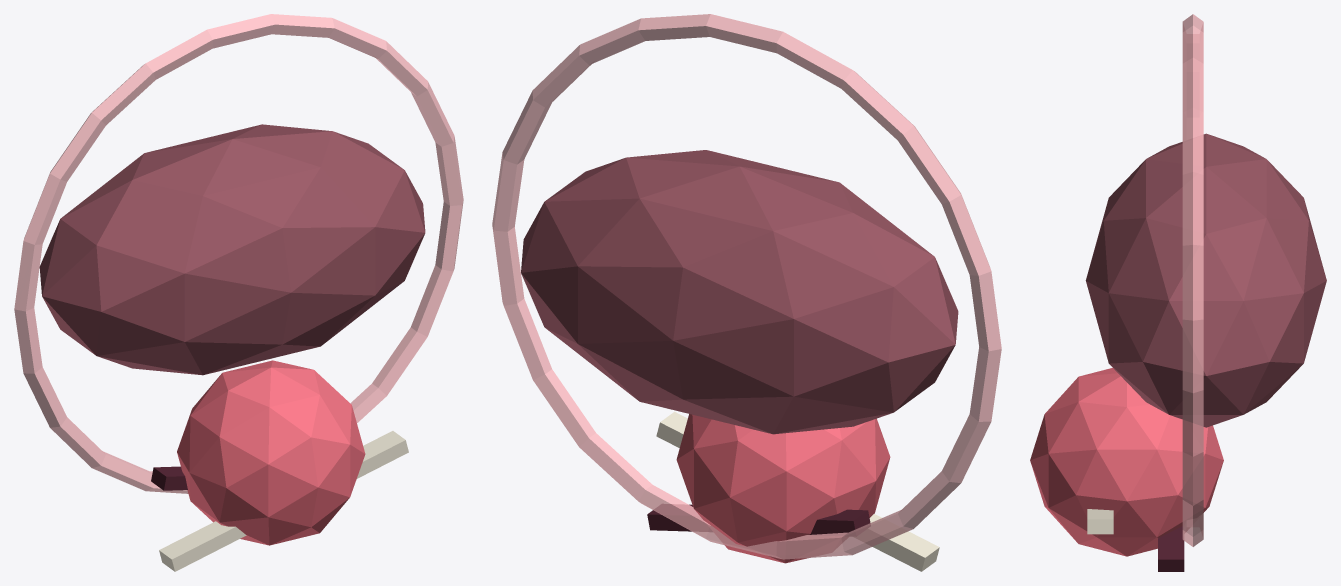
Rendered from 02_random_skin_projector.glb.
The picture shows the model from 3 angles, left to right: view 1: azimuth 30°, elevation 25°; view 2: azimuth 150°, elevation 25°; view 3: azimuth 270°, elevation 25°; orthographic projection. The views are drawn at different scales.
Parts seen in each view (by area): view 1: skin_preview_body, skin_preview_head, skin_shuffle_ring, pattern_stripe_a, pattern_stripe_b; view 2: skin_preview_body, skin_shuffle_ring, skin_preview_head, pattern_stripe_a, pattern_stripe_b; view 3: skin_preview_body, skin_preview_head, skin_shuffle_ring, pattern_stripe_b, pattern_stripe_a.
Part boxes in pixels (box(x1,y1,x2,y2)): skin_preview_body: box(39, 124, 425, 375); skin_preview_head: box(177, 360, 365, 545); skin_shuffle_ring: box(14, 14, 463, 493); pattern_stripe_a: box(159, 431, 408, 571); pattern_stripe_b: box(151, 466, 187, 490); skin_preview_body: box(521, 150, 958, 434); skin_shuffle_ring: box(492, 14, 1001, 559); skin_preview_head: box(676, 414, 890, 563); pattern_stripe_a: box(656, 411, 939, 571); pattern_stripe_b: box(647, 504, 870, 535); skin_preview_body: box(1085, 133, 1326, 427); skin_preview_head: box(1030, 368, 1223, 556); skin_shuffle_ring: box(1182, 14, 1203, 546); pattern_stripe_b: box(1158, 526, 1184, 571); pattern_stripe_a: box(1087, 509, 1113, 534).
Size of the model in its own units: 1.21 by 1.27 by 0.6736.
